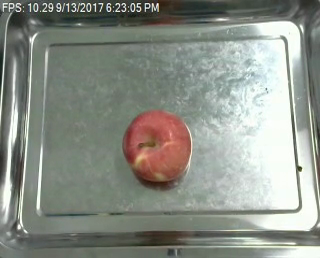Apple: (118, 106, 194, 187)
